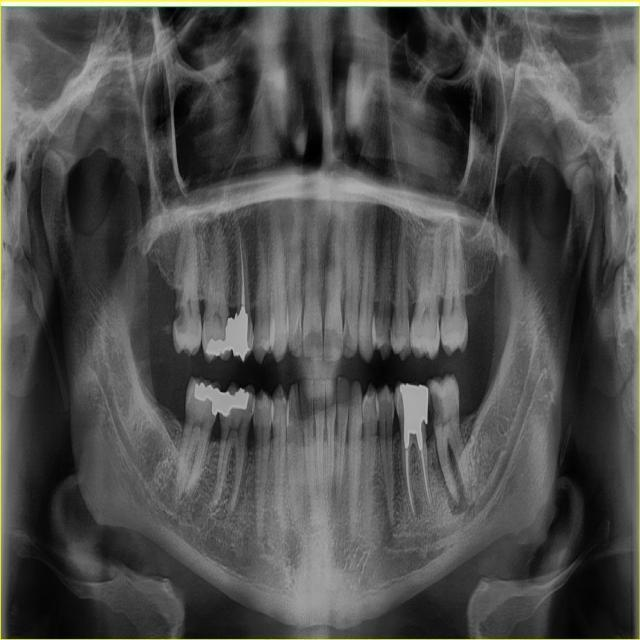74: (420, 450, 432, 507), (238, 237, 245, 313), (405, 448, 411, 498)
NucleOSS Implant: (399, 383, 430, 452), (202, 317, 246, 362), (187, 375, 230, 416), (229, 306, 251, 362), (215, 386, 252, 416)
Sterngold Implant: (424, 382, 448, 426), (170, 283, 188, 331), (387, 326, 391, 343)
